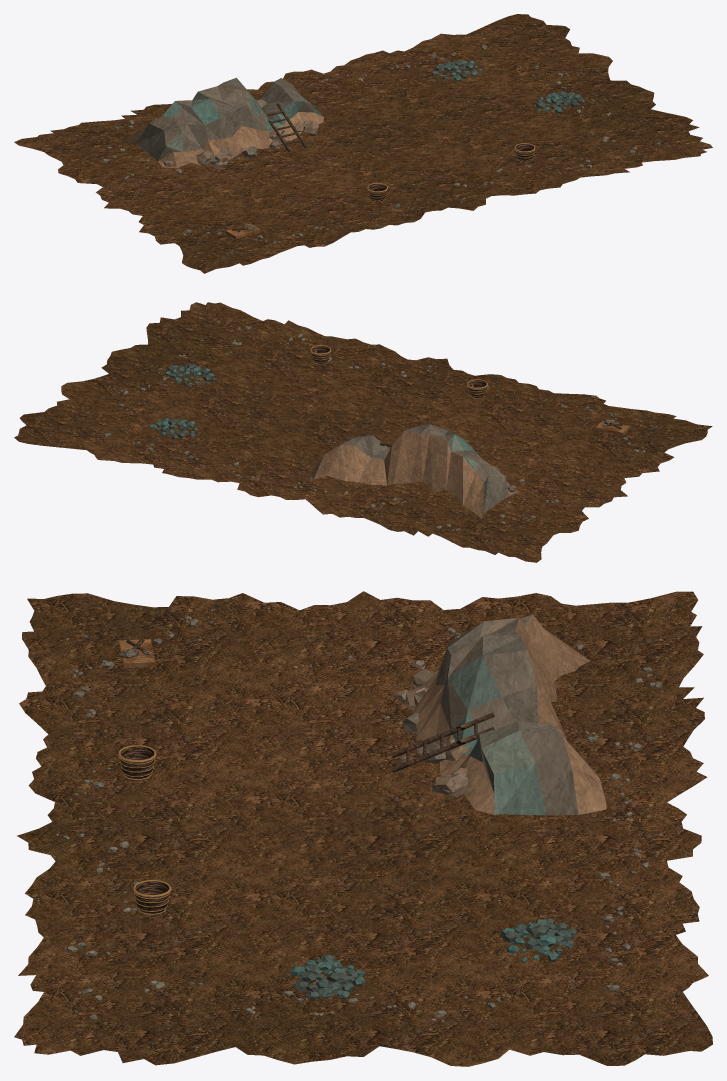
File: coppermine.glb
The picture shows the model from 3 angles, top to bottom: view 1: azimuth 30°, elevation 25°; view 2: azimuth 150°, elevation 25°; view 3: azimuth 270°, elevation 25°; orthographic projection. The views are drawn at different scales.
Visible parts, largest first — view 1: part_0, part_1, part_3, part_2; view 2: part_0, part_1, part_3; view 3: part_0, part_1, part_3, part_2, part_4.
Boxes of the visible parts, left/top/right/bottom form: part_0: left=14, top=14, right=712, bottom=273; part_1: left=102, top=44, right=660, bottom=254; part_3: left=368, top=143, right=534, bottom=201; part_2: left=232, top=103, right=306, bottom=232; part_0: left=14, top=302, right=712, bottom=562; part_1: left=103, top=320, right=661, bottom=531; part_3: left=311, top=346, right=486, bottom=397; part_0: left=14, top=591, right=712, bottom=1066; part_1: left=56, top=614, right=662, bottom=1022; part_3: left=120, top=746, right=169, bottom=913; part_2: left=126, top=638, right=494, bottom=772; part_4: left=118, top=745, right=171, bottom=914.
Size of the model in its own units: 10.39 by 1.04 by 6.45.
8 materials, 6 textured.
